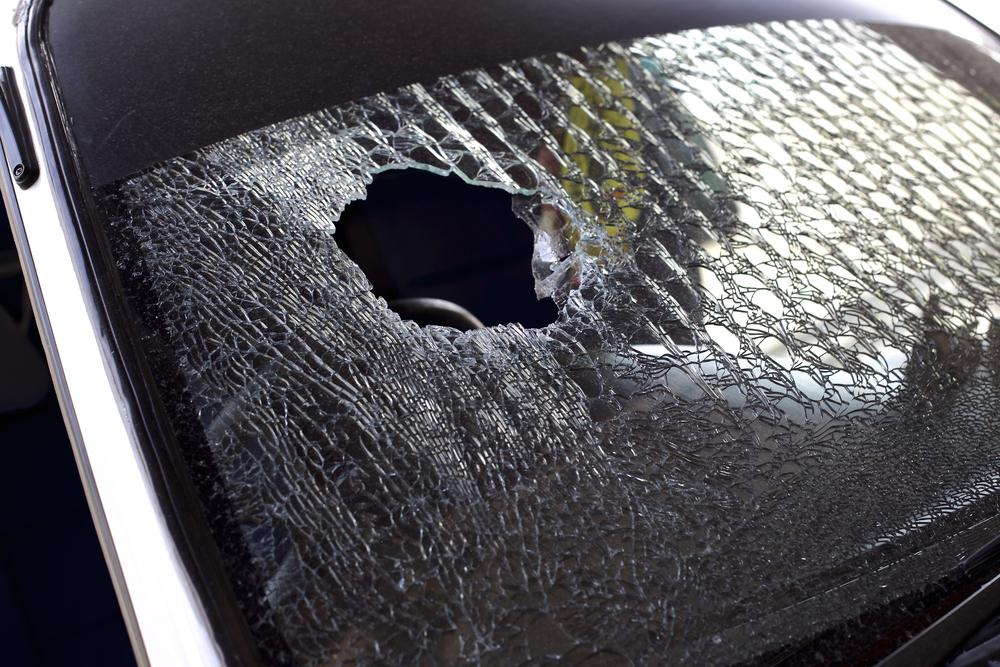glass shatter: (35, 0, 1000, 667)
